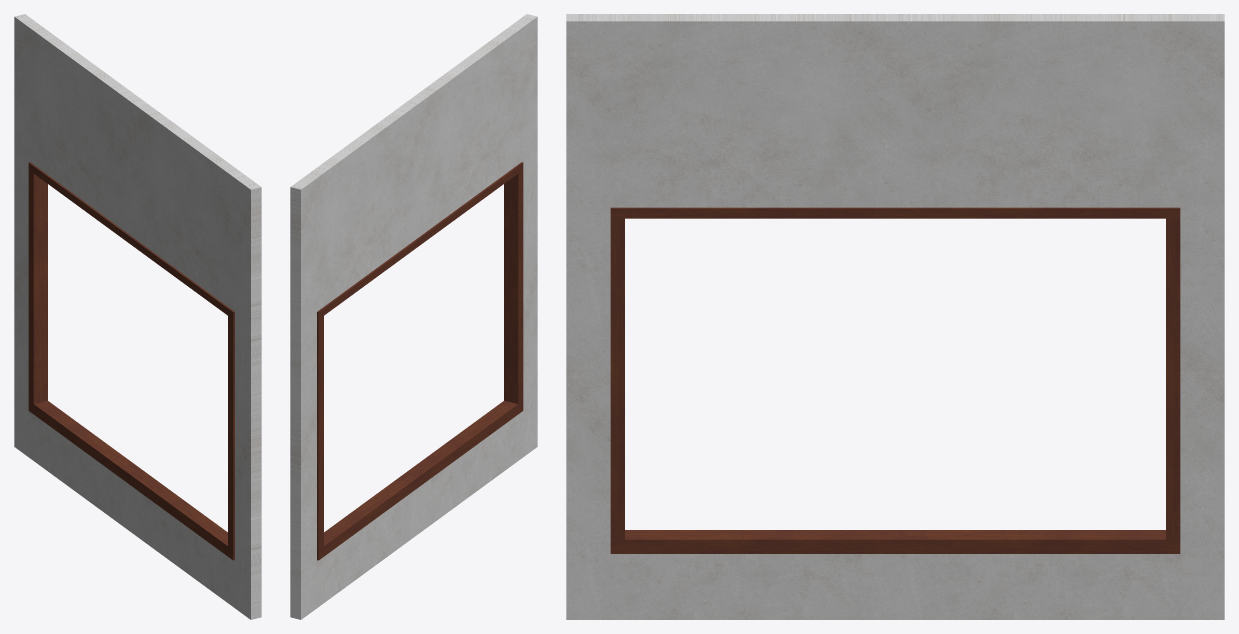
The model's file is SM_White_Red_Wall01N.fbx.
The picture shows the model from 3 angles, left to right: view 1: azimuth 30°, elevation 25°; view 2: azimuth 150°, elevation 25°; view 3: azimuth 270°, elevation 25°; orthographic projection. The views are drawn at different scales.
Visible parts, largest first — view 1: SM_White_Red_Wall01N; view 2: SM_White_Red_Wall01N; view 3: SM_White_Red_Wall01N.
Boxes of the visible parts, x1=… form: SM_White_Red_Wall01N: x1=14, y1=14, x2=261, y2=619; SM_White_Red_Wall01N: x1=290, y1=14, x2=537, y2=619; SM_White_Red_Wall01N: x1=566, y1=14, x2=1224, y2=619.
Bounding box in the file's own units: 8.99 × 260 × 261.
